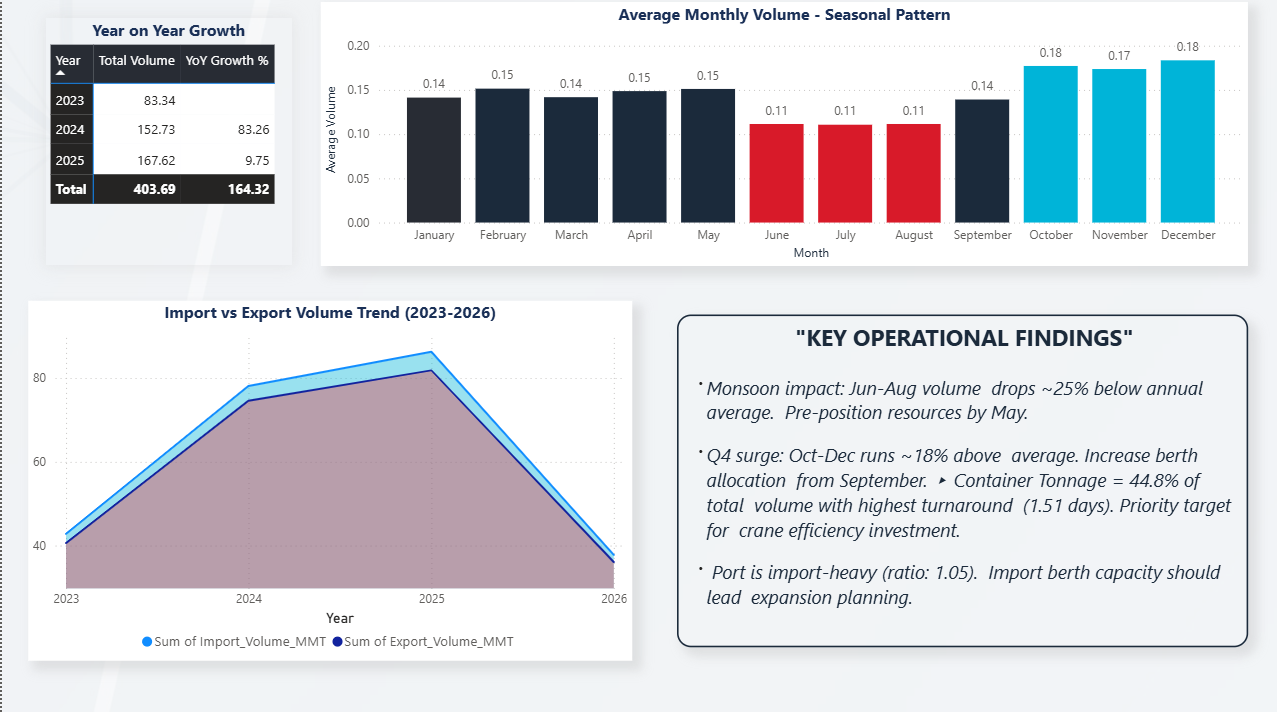

This screenshot's page, from the dashboard's own definition file:
{"tool":"powerbi","page":{"name":"Seasonal & YoY Growth Analysis","canvas":[1280,720],"ordinal":3},"visuals":[{"type":"areaChart","title":"Import vs Export Volume   Trend (2023-2026)","fields":{"Category":["daily_port_cargo.Record_Date.Variation.Date Hierarchy.Year","daily_port_cargo.Record_Date.Variation.Date Hierarchy.Quarter","daily_port_cargo.Record_Date.Variation.Date Hierarchy.Month","daily_port_cargo.Record_Date.Variation.Date Hierarchy.Day"],"Y":["Sum(daily_port_cargo.Import_Volume_MMT)","Sum(daily_port_cargo.Export_Volume_MMT)"]},"box":[26.2,303.8,603.8,360],"z":0},{"type":"clusteredColumnChart","title":"Average Monthly Volume - Seasonal Pattern","fields":{"Y":["daily_port_cargo.Avg_Volume"],"Category":["daily_port_cargo.Full_Month_Name"]},"box":[318.8,5,927.5,263.8],"z":1000},{"type":"pivotTable","title":"Year on Year Growth","fields":{"Rows":["daily_port_cargo.Record_Date.Variation.Date Hierarchy.Year"],"Values":["daily_port_cargo.Total Volume","daily_port_cargo.YoY Growth %"]},"box":[43.8,21.2,246.2,247.5],"z":2000},{"type":"textbox","title":"\"KEY OPERATIONAL FINDINGS\"","box":[675,317.5,571.2,332.5],"z":3000}]}

Visuals, with their boxes in screenshot pixels (x1, y1, x2, y2), scaled from the page's 1280x720 canvas onto the 1277x712 screenshot:
"Import vs Export Volume   Trend (2023-2026)" areaChart: select_region(26, 300, 629, 656)
"Average Monthly Volume - Seasonal Pattern" clusteredColumnChart: select_region(318, 5, 1243, 266)
"Year on Year Growth" pivotTable: select_region(44, 21, 289, 266)
""KEY OPERATIONAL FINDINGS"" textbox: select_region(673, 314, 1243, 643)
